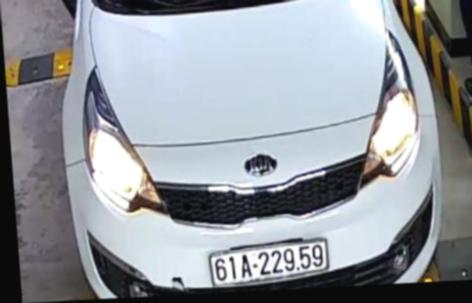License_Plate: (202, 230, 336, 288)
